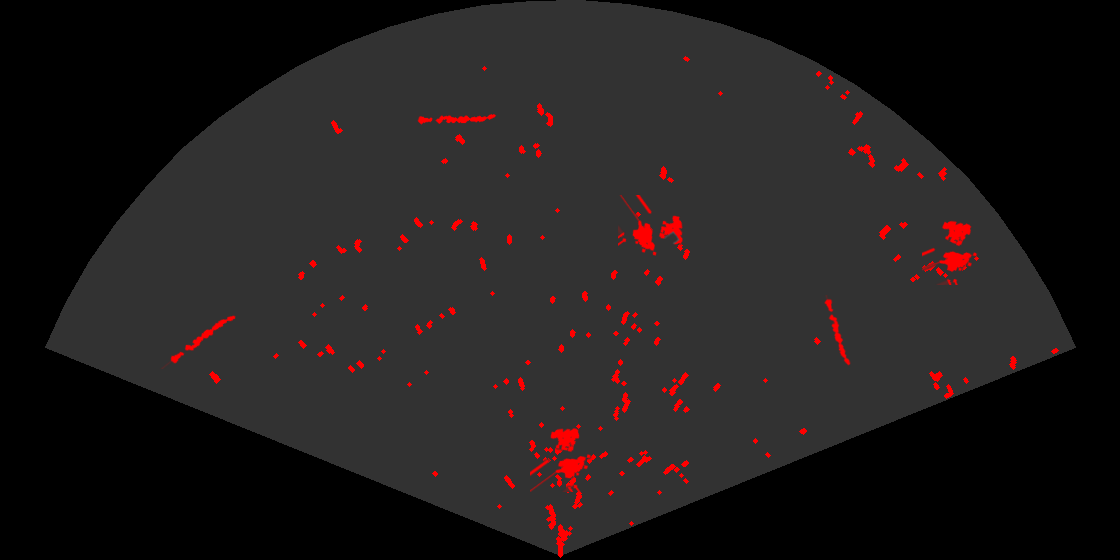cage: (618, 195, 685, 257), (530, 426, 592, 492), (922, 219, 979, 285)
chain: (159, 314, 237, 369), (823, 295, 852, 368), (417, 113, 497, 126)
